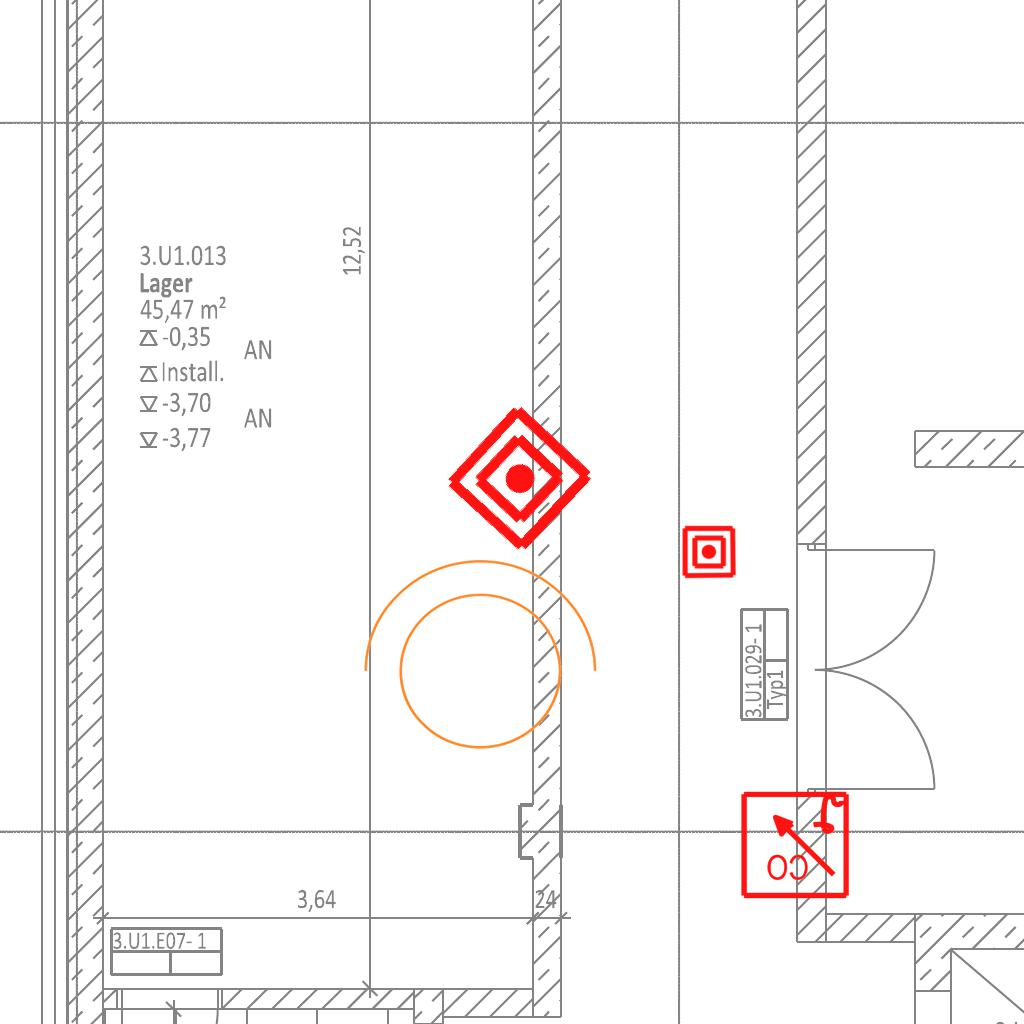NAM-Nichtautomatischer_Melder: (439, 398, 600, 559), (681, 524, 737, 580)
ROA_Rauchmelder_optisch_mit_Signalgeber_(Sockelsirene): (738, 787, 851, 900)
Scheinwerfer_fuer_Alarmbeleuchtung: (342, 549, 606, 774)
